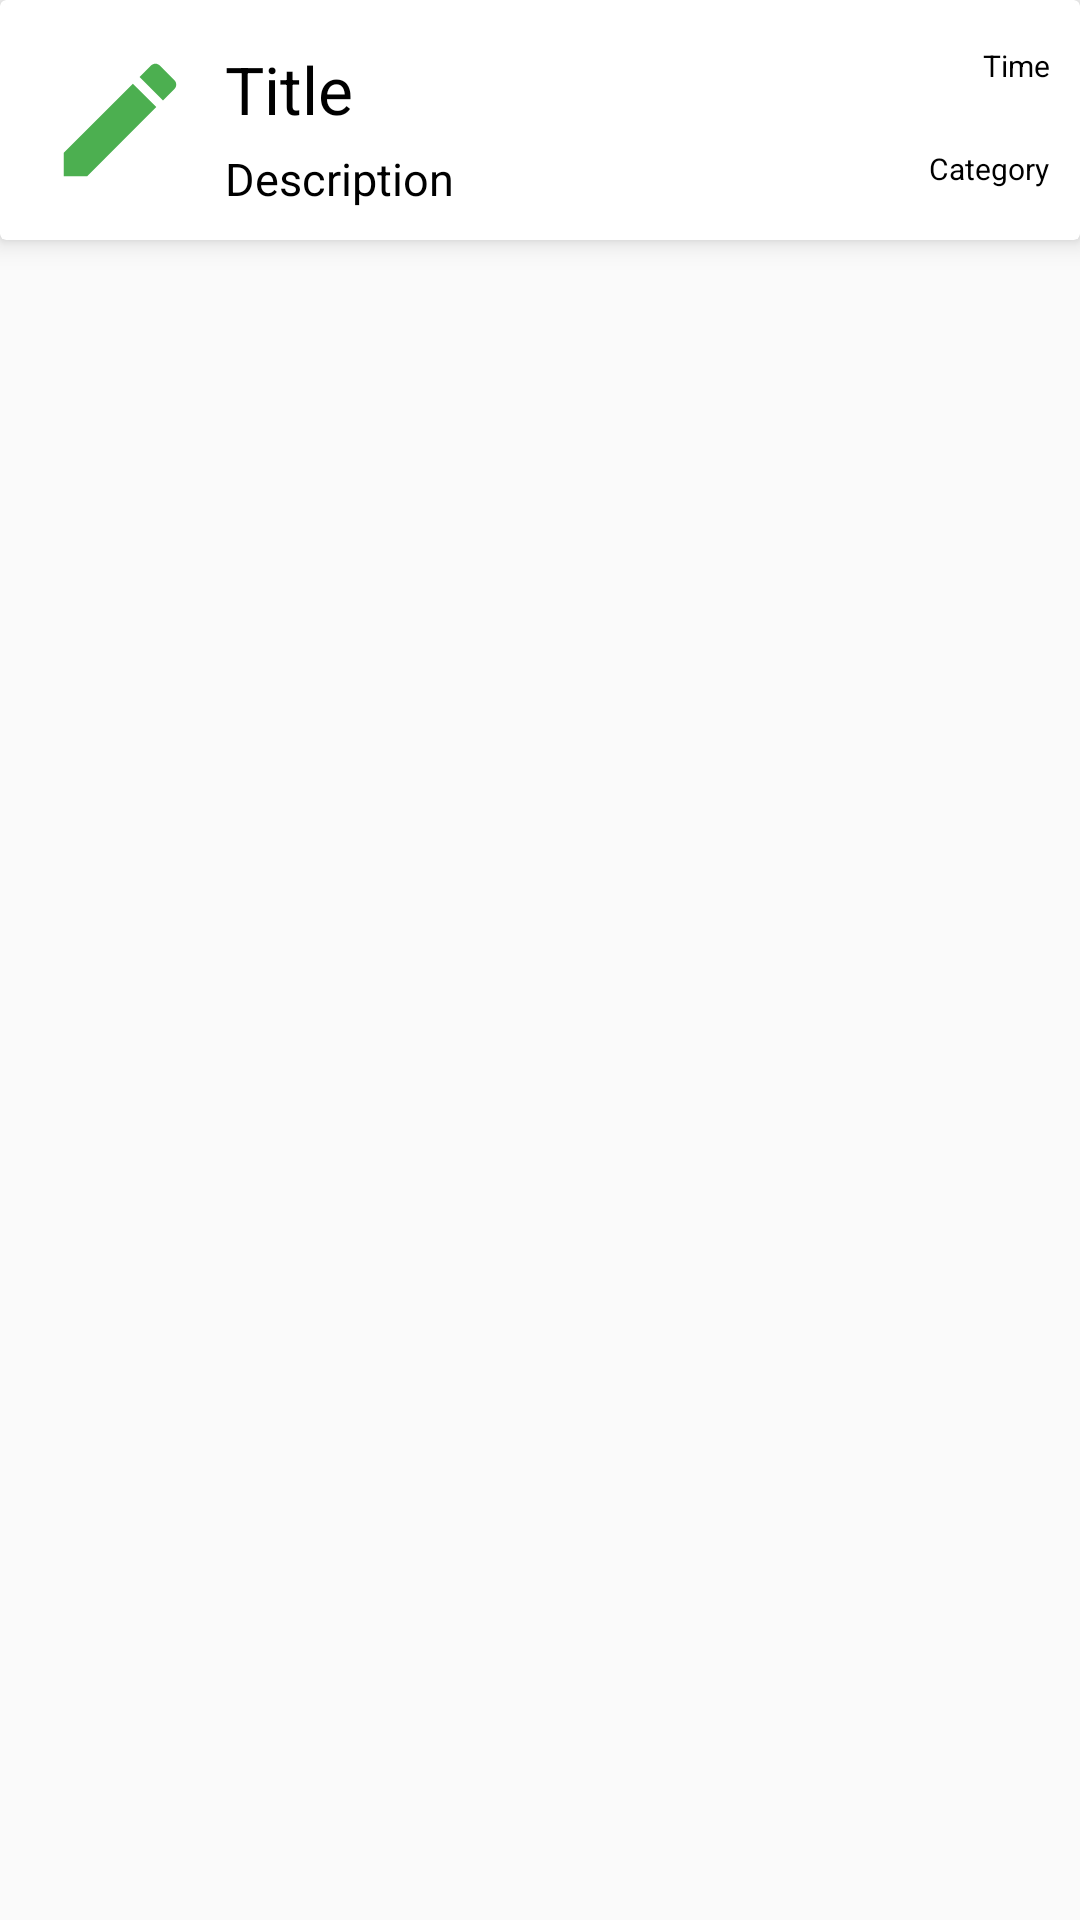

Icon bounding boxes for this 1080px×1920px phone screenshot, format {"x1": x1, "y1": y1, "x2": x2, "y2": y2}:
create: {"x1": 63, "y1": 63, "x2": 177, "y2": 177}
